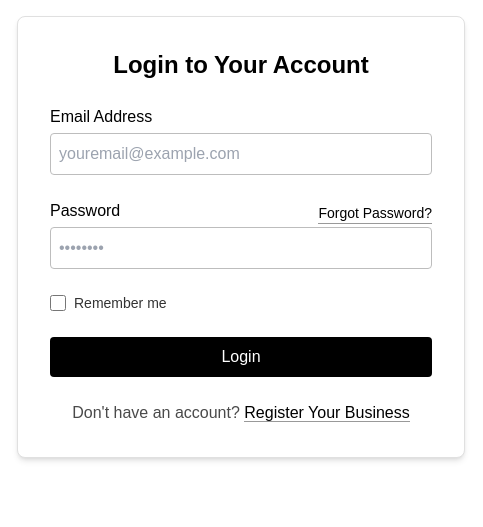
Test: Login Component › shows validation errors for empty form submission
# Submit the form without entering any data
Click the button "Login".
click(241, 357)  # box [50,337,432,377]
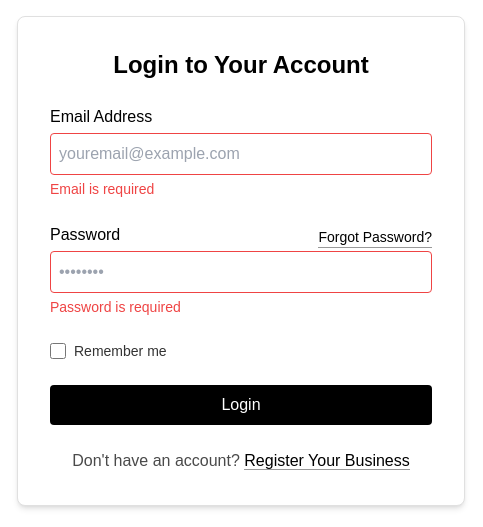
Result: the text "Email is required" is shown at [50,181,154,197]
Result: the text "Password is required" is shown at [50,299,181,315]
